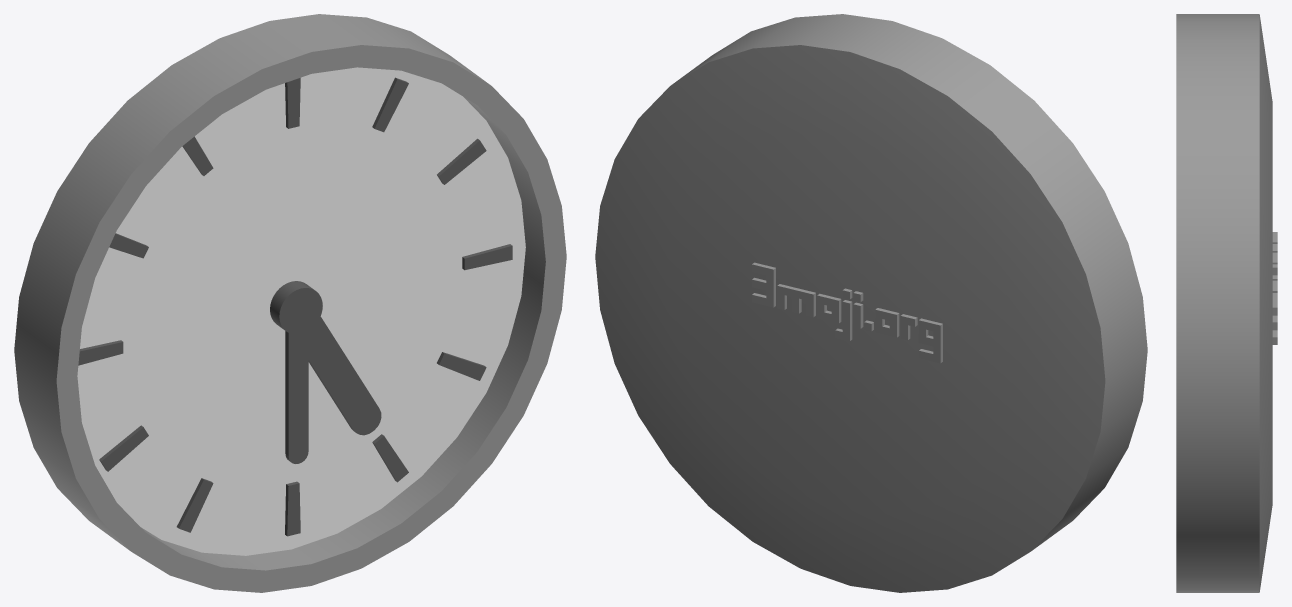
The model's file is five_thirty.fbx.
3 views of the same model, side by side, from view 1: azimuth 30°, elevation 25°; view 2: azimuth 150°, elevation 25°; view 3: azimuth 270°, elevation 25° (orthographic).
Visible parts, largest first — view 1: Circle.2462; view 2: Circle.2462; view 3: Circle.2462.
Boxes of the visible parts, x1=… form: Circle.2462: x1=14, y1=14, x2=566, y2=592; Circle.2462: x1=595, y1=14, x2=1147, y2=592; Circle.2462: x1=1176, y1=14, x2=1277, y2=592.
Size of the model in its own units: 233 by 233 by 40.69.
1 material, 1 textured.
